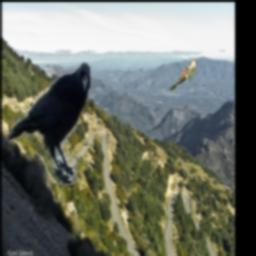Crow: (8, 64, 90, 186)
Cuckoo: (169, 59, 197, 92)
